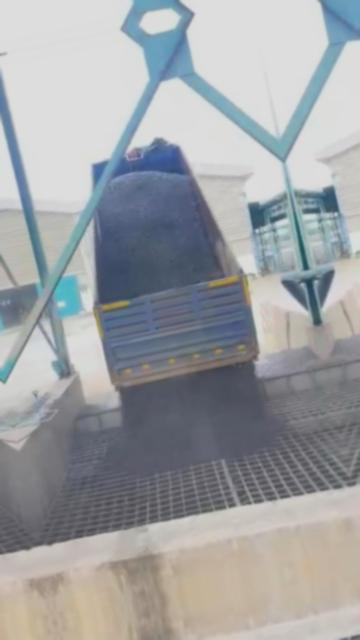gravel: (106, 366, 283, 474), (96, 171, 221, 300), (257, 346, 328, 379)
